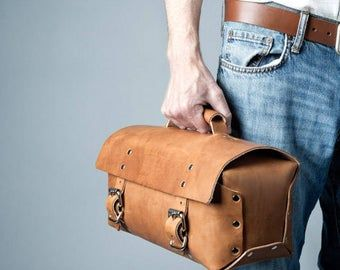cuero: (95, 107, 301, 270)
